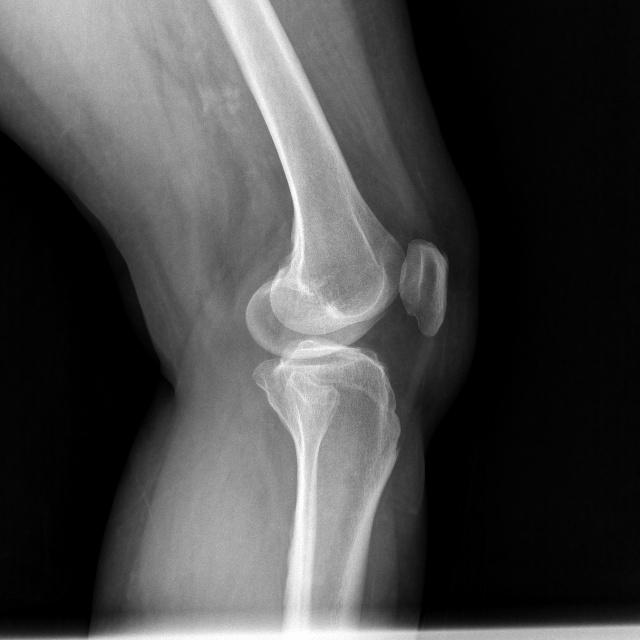Knee: (243, 233, 450, 412)
